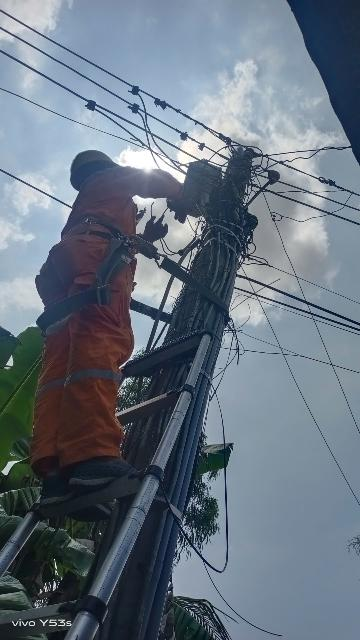gloves: (165, 175, 194, 229), (138, 211, 173, 248)
harness: (58, 208, 169, 268)
helmet: (61, 131, 128, 189)
shoes: (33, 471, 122, 528), (69, 441, 163, 492)
